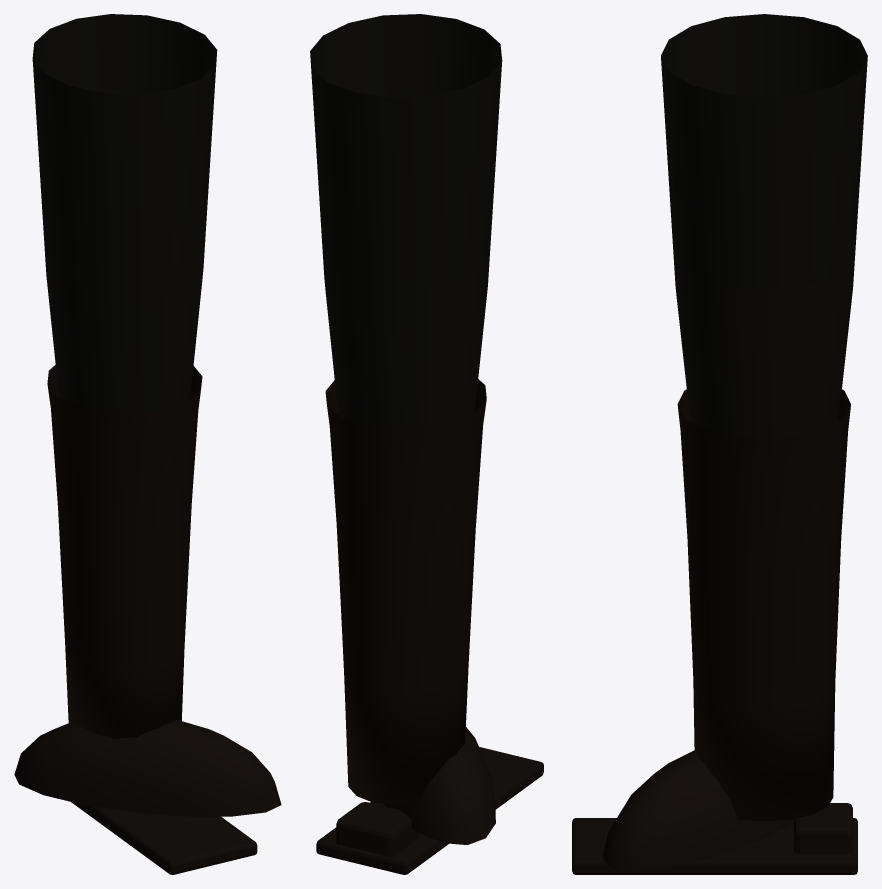
The model's file is fp_leg_frontier.glb.
3 views of the same model, side by side, from view 1: azimuth 30°, elevation 25°; view 2: azimuth 150°, elevation 25°; view 3: azimuth 270°, elevation 25° (orthographic). The views are drawn at different scales.
Visible parts, largest first — view 1: fp_leg.001; view 2: fp_leg.001; view 3: fp_leg.001.
Part boxes in pixels (left/top/right/bottom): fp_leg.001: left=14, top=14, right=281, bottom=874; fp_leg.001: left=310, top=14, right=543, bottom=874; fp_leg.001: left=572, top=14, right=867, bottom=874.
Size of the model in its own units: 0.2285 by 0.893 by 0.3.
2 materials, 2 textured.
